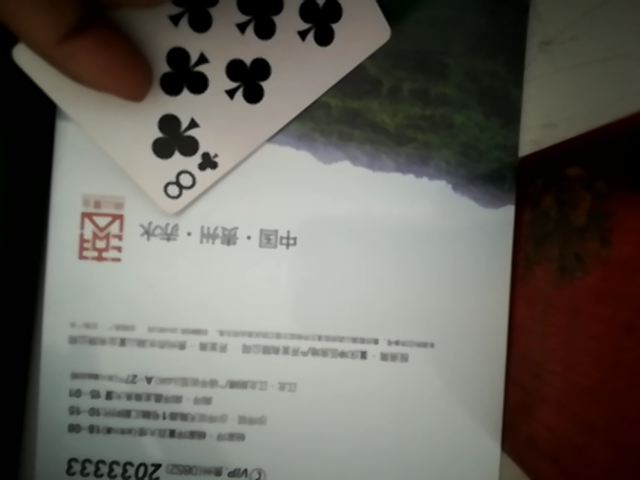mh 8: (93, 0, 402, 218)
